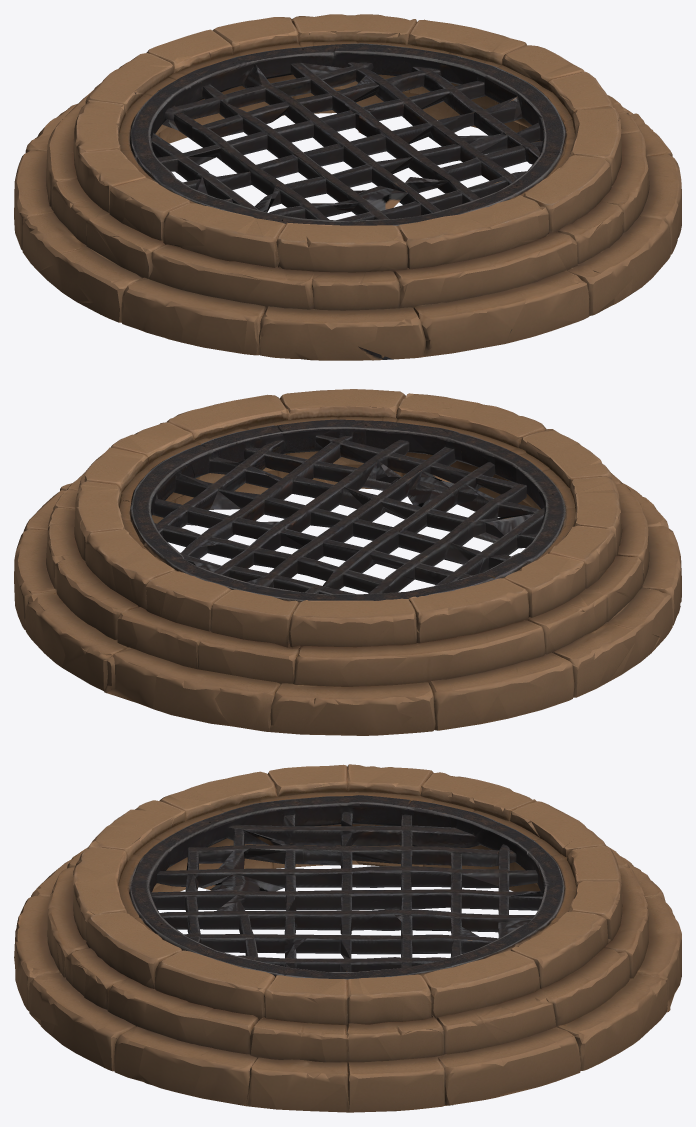
The model's file is fire_grate.glb.
3 renders of one model, top to bottom at view 1: azimuth 30°, elevation 25°; view 2: azimuth 150°, elevation 25°; view 3: azimuth 270°, elevation 25°, orthographic.
Visible parts, largest first — view 1: output_unwrapped; view 2: output_unwrapped; view 3: output_unwrapped.
Boxes of the visible parts, x1,y1,x2,y2 form: output_unwrapped: (14, 14, 681, 360); output_unwrapped: (14, 389, 681, 735); output_unwrapped: (14, 764, 681, 1112).
Bounding box in the file's own units: 1.9 × 0.2896 × 1.9.
Materials: 1 (1 with a texture image).
